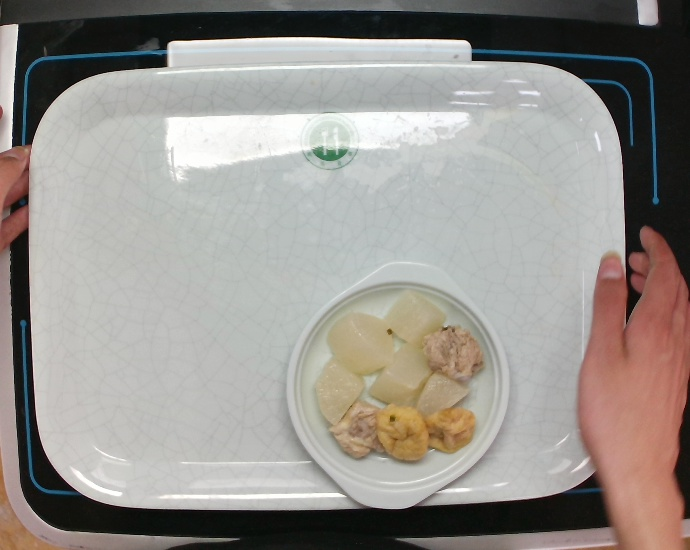JYsf-Shuang_Er_Pan: (282, 254, 516, 513)
